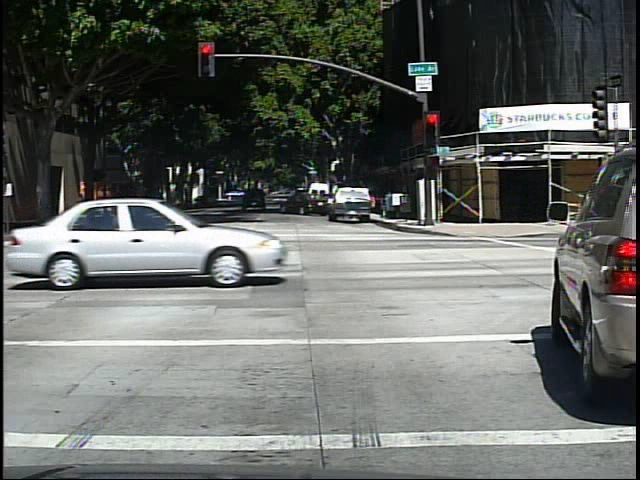person: (73, 186, 89, 220)
